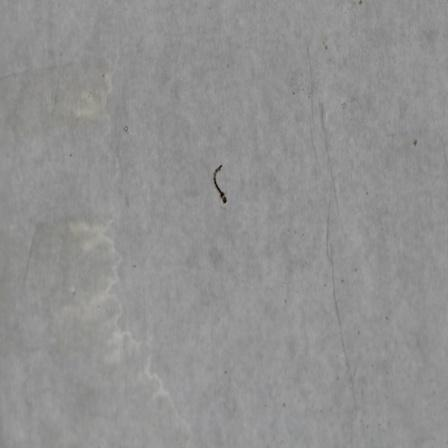Jentik-Nyamuk: (208, 159, 233, 207)
